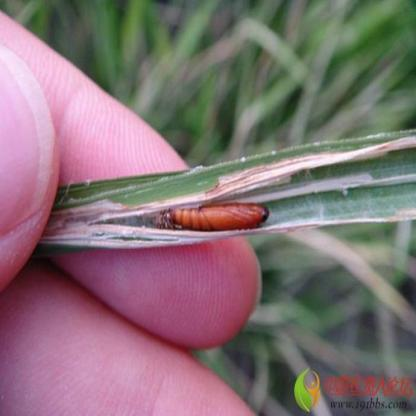leaf-folder: (160, 195, 278, 242)
